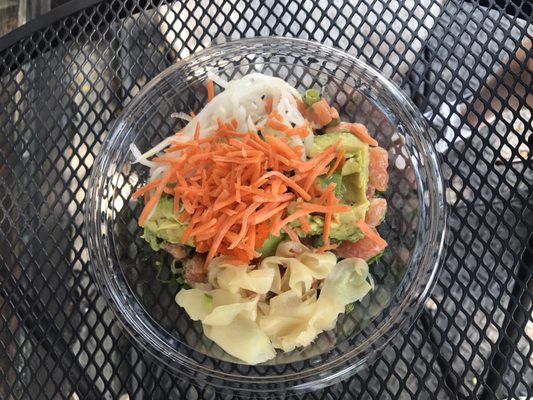sushi: (81, 39, 475, 396)
